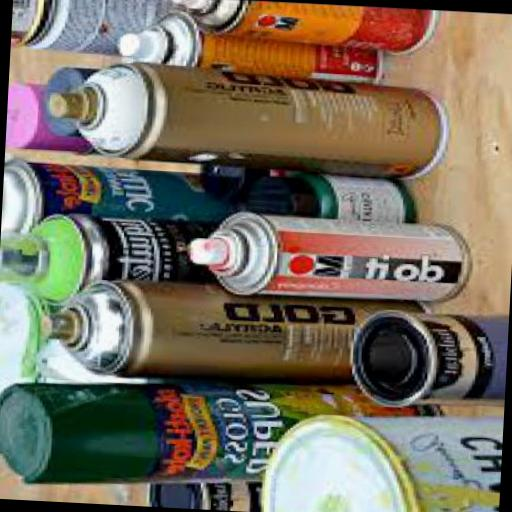metal: (44, 54, 449, 181), (41, 272, 432, 389), (132, 372, 446, 492), (182, 206, 474, 304), (0, 206, 237, 312), (1, 156, 248, 244), (113, 6, 382, 79), (345, 306, 507, 410), (344, 411, 501, 512), (164, 0, 442, 56), (10, 0, 189, 56), (144, 472, 260, 510)
paper: (0, 371, 155, 487), (255, 402, 414, 512), (246, 166, 422, 220), (196, 160, 284, 202)
